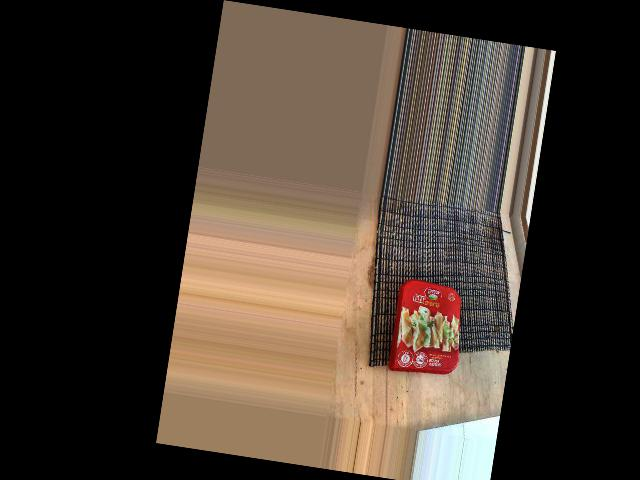cheese: (379, 272, 470, 398)
